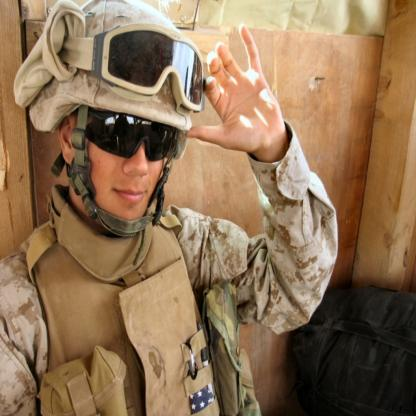Helmet: (35, 19, 202, 243)
